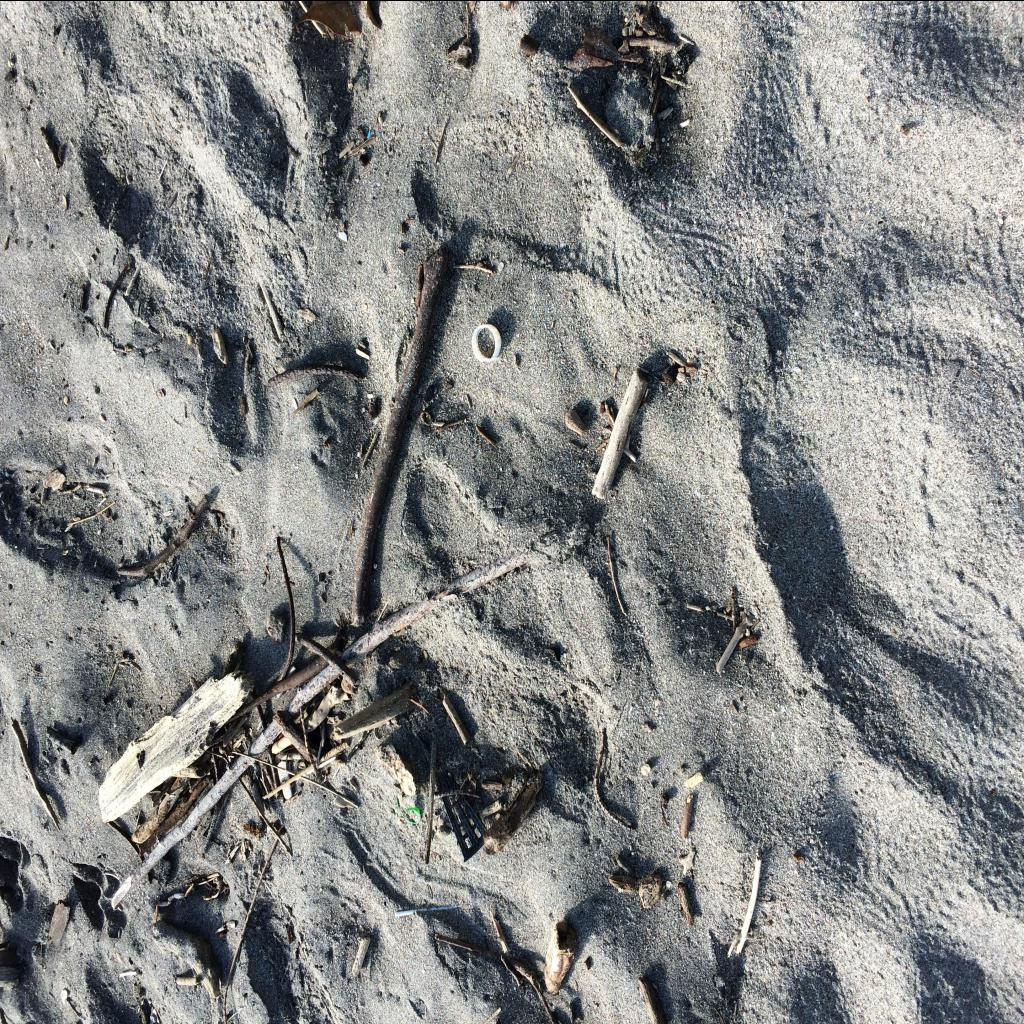Other plastic wrapper: (438, 794, 486, 860), (396, 796, 420, 823), (395, 906, 456, 916)
Plastic bottle cap: (472, 324, 502, 362)
